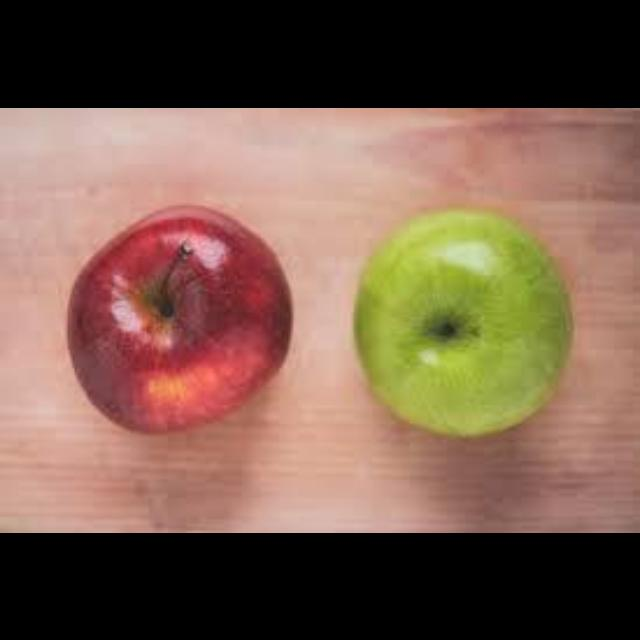apple: (67, 207, 291, 430), (354, 209, 570, 433)
